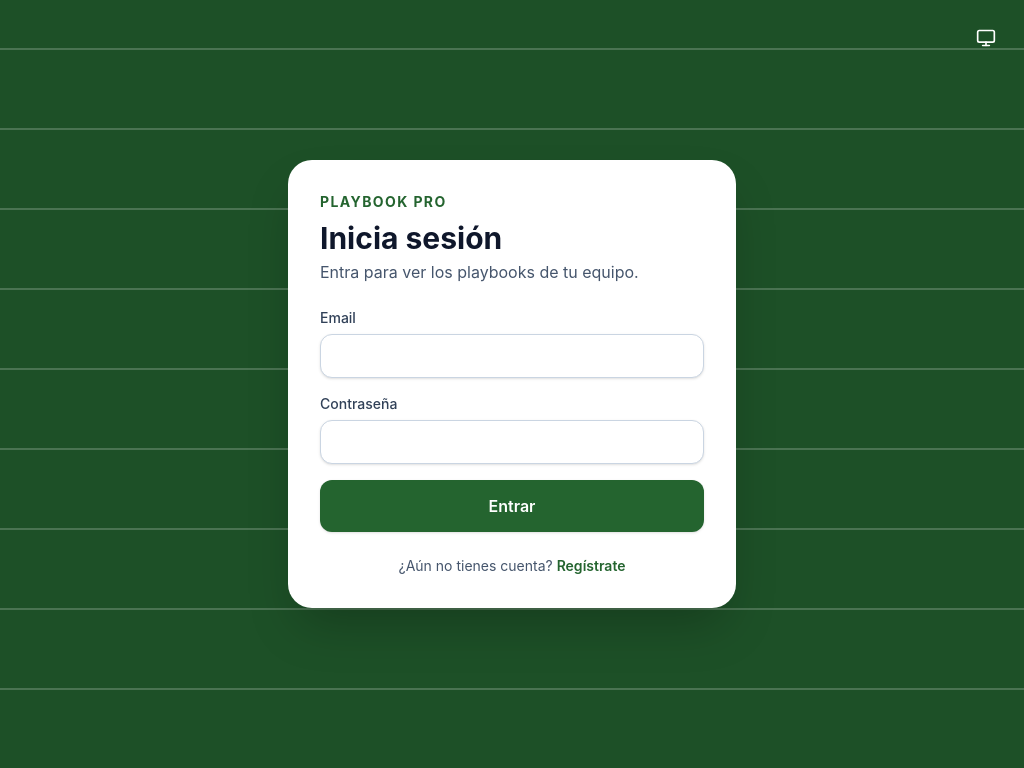
Test: LoginPage › enseña el mensaje de la API si las credenciales no valen
Type "coach@equipo.com" into the field labelled "Email" at (512, 356), box top-left (320, 334), bottom-right (704, 378)
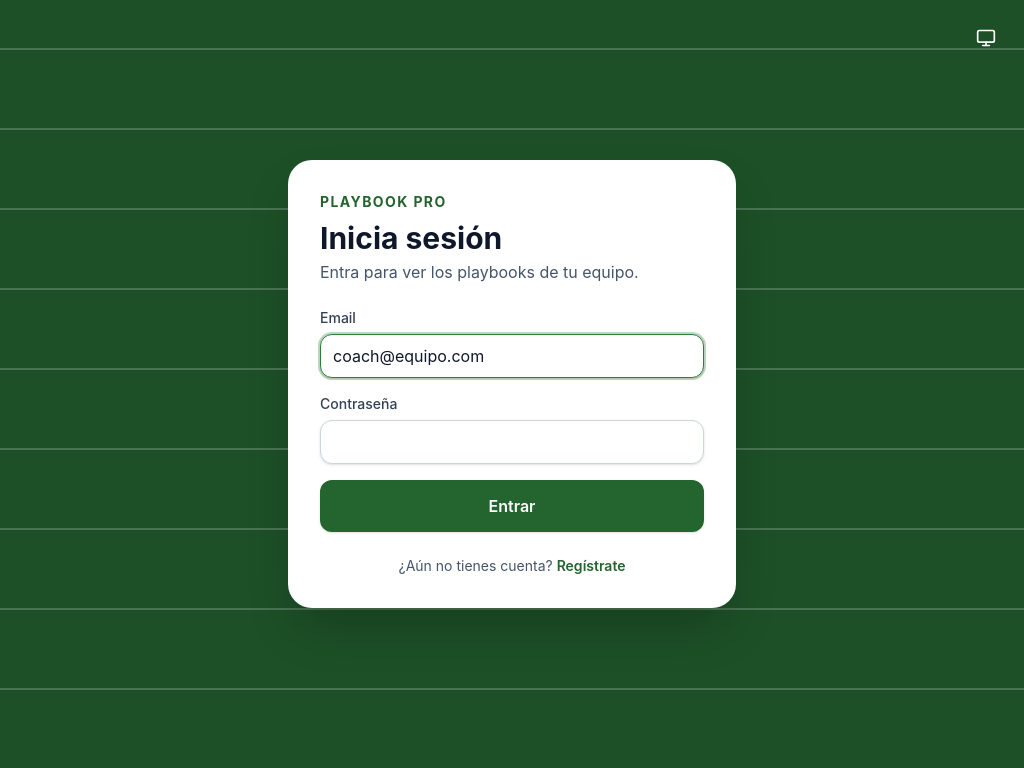
Type "mala-clave" into the password field labelled "Contraseña" at (512, 442), box top-left (320, 420), bottom-right (704, 464)
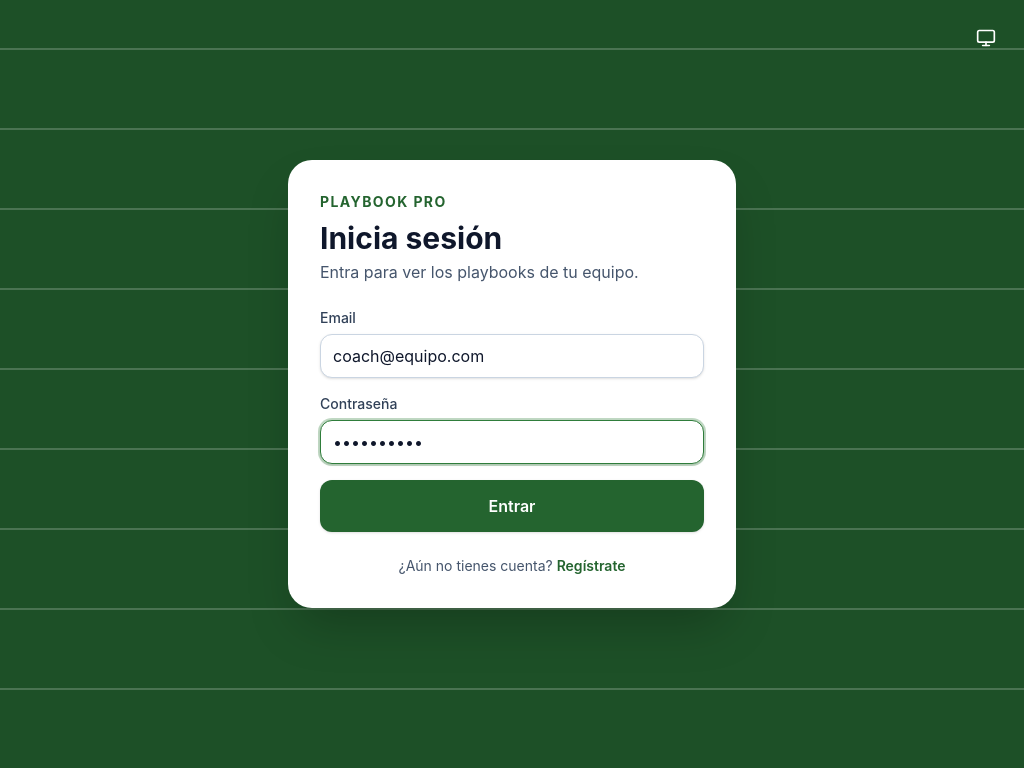
Click the button "Entrar" at (512, 506), box top-left (320, 480), bottom-right (704, 532)
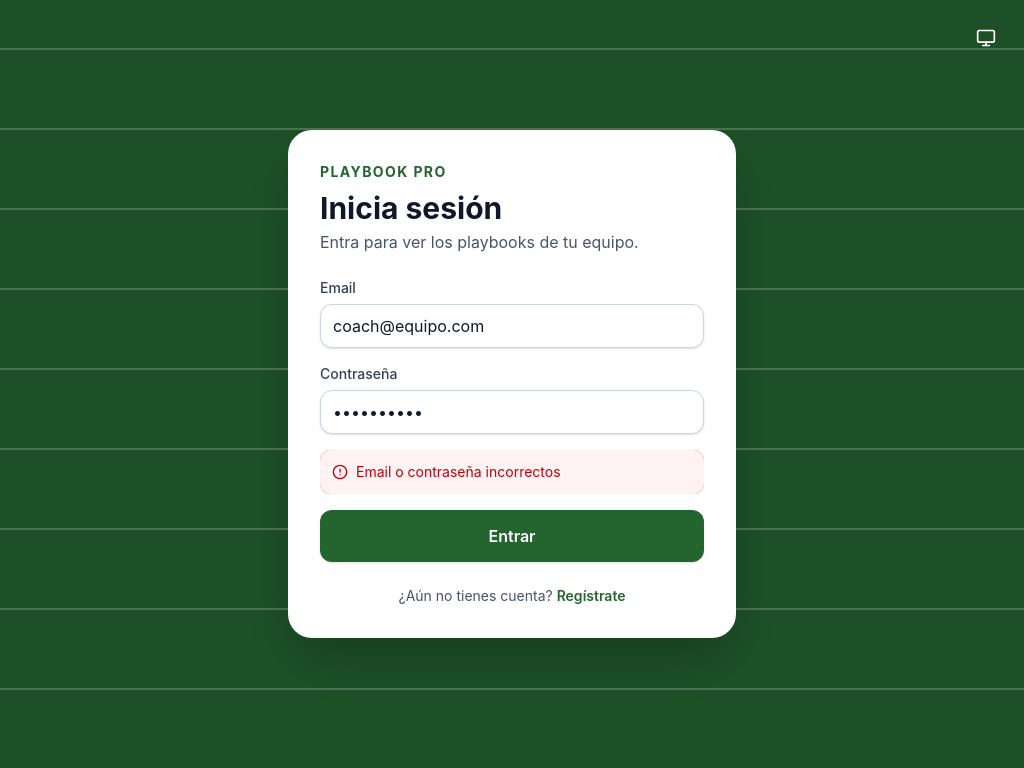
Expected: the button "Entrar" is enabled, top-left (320, 510), bottom-right (704, 562)
Result: the message reads "Email o contraseña incorrectos" at top-left (356, 463), bottom-right (561, 480)
